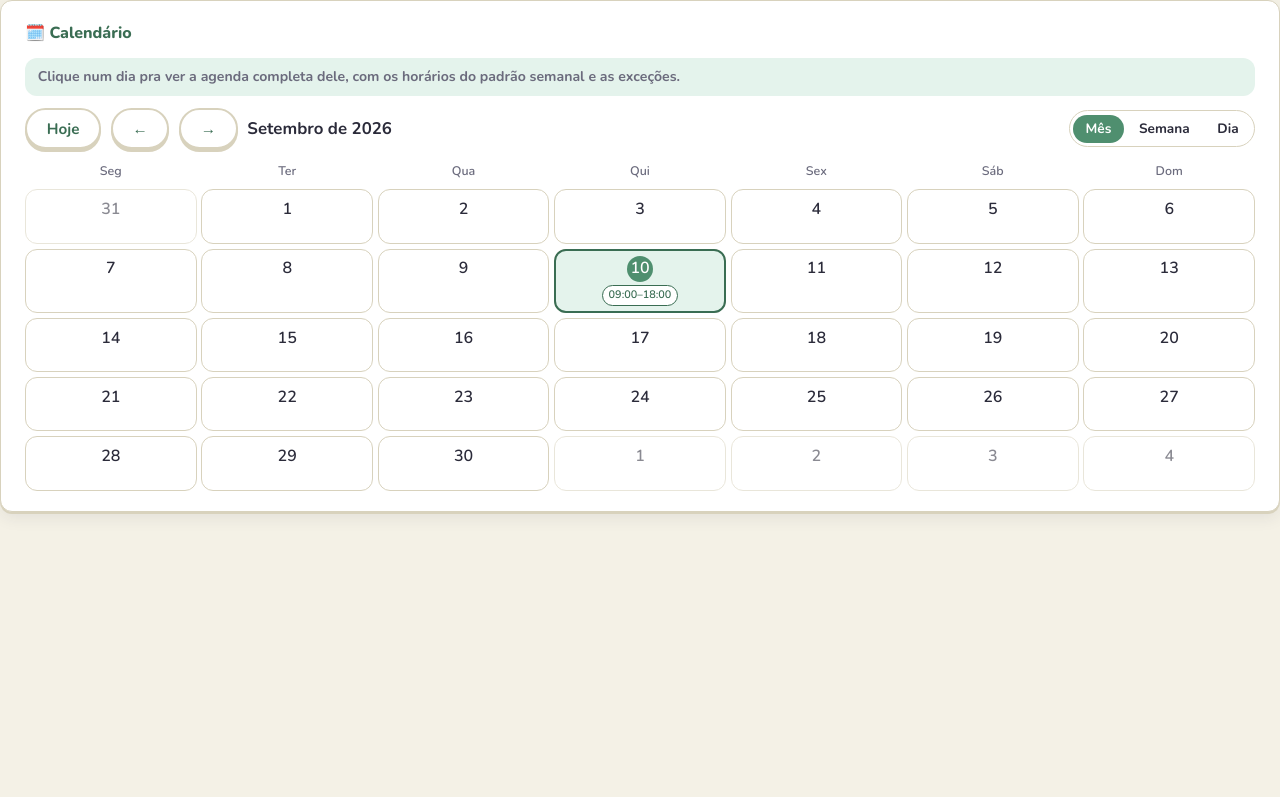
Scenario: EscalaCalendarioPainel › mostra o link do Meet com um jeito de entrar/copiar, e sem botão de cancelar pra quem não criou
Click the button "10 09:00–18:00".
click(640, 281)  # box [554,248,726,313]
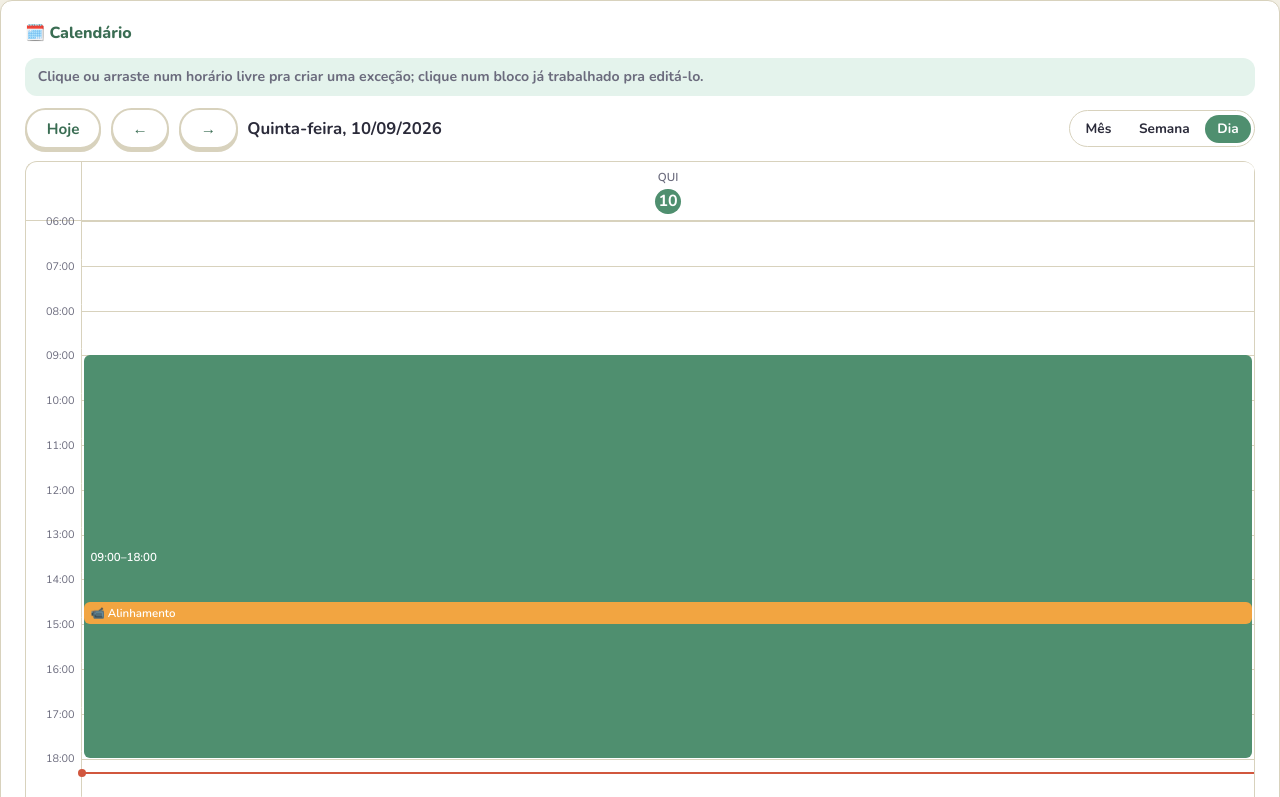
Click the button "📹 Alinhamento".
click(142, 613)  # box [84,602,1252,624]
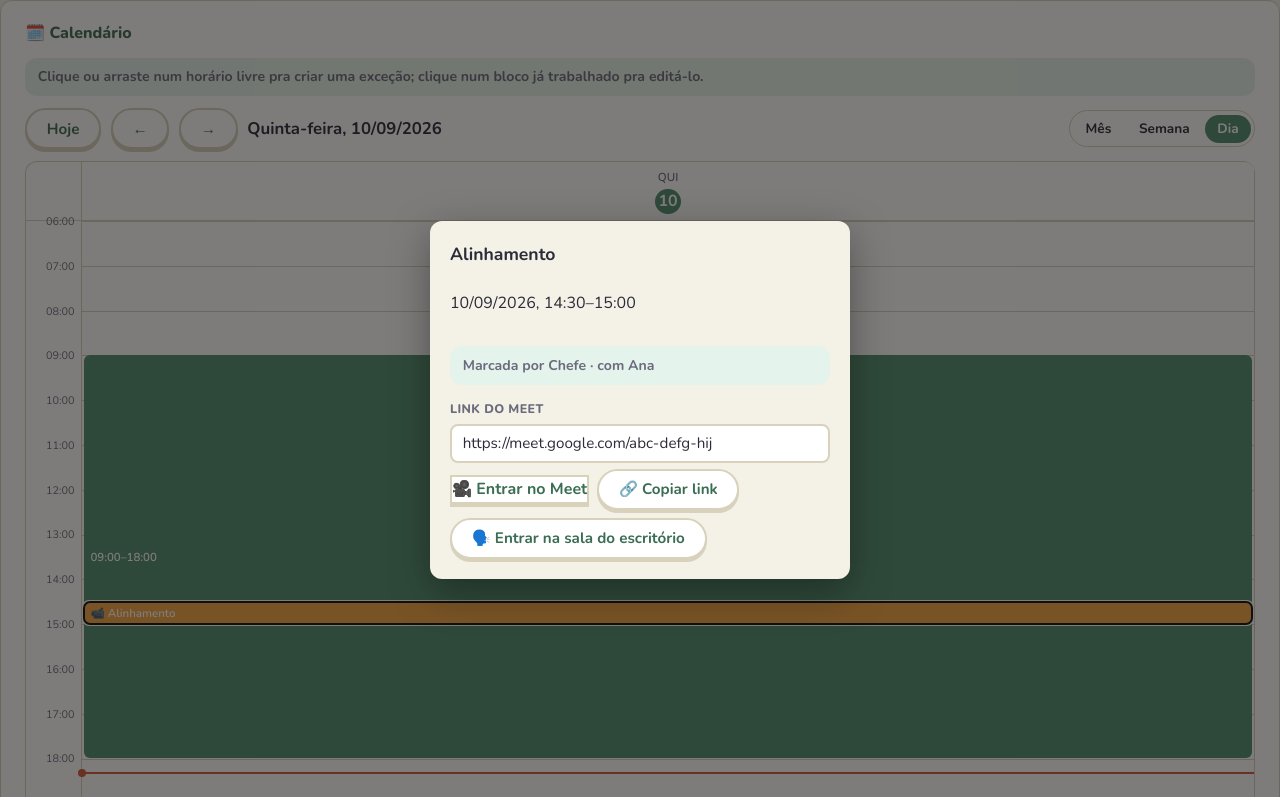
Check: the button "🔗 Copiar link" is shown, box [597,469,739,510]
